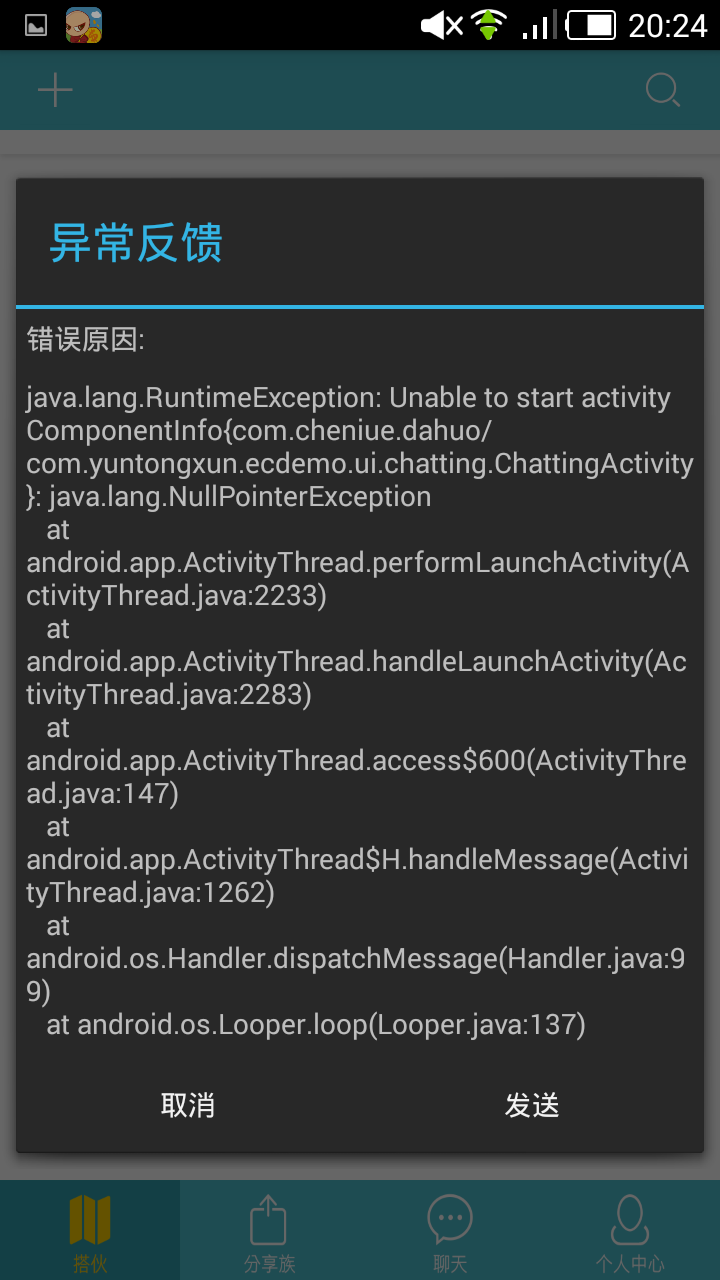alert: (8, 170, 713, 1166)
nav: (4, 1177, 715, 1278)
